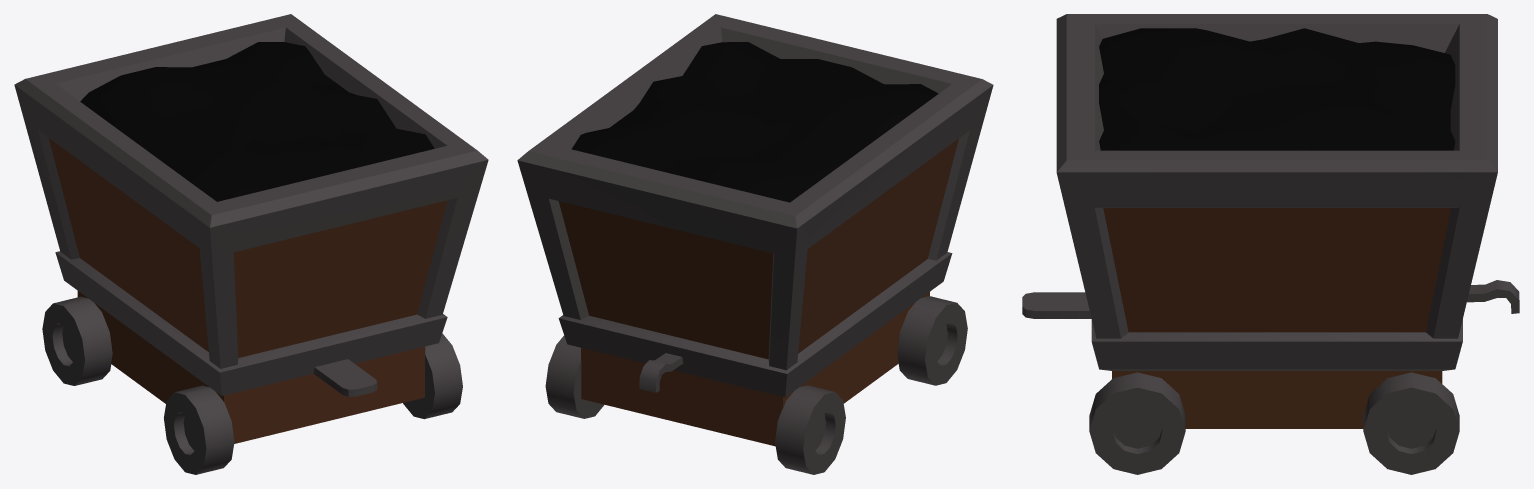
File: minecart.fbx
3 renders of one model, left to right at view 1: azimuth 30°, elevation 25°; view 2: azimuth 150°, elevation 25°; view 3: azimuth 270°, elevation 25°, orthographic. The views are drawn at different scales.
Parts seen in each view (by area): view 1: Cube; view 2: Cube; view 3: Cube.
Boxes of the visible parts, <box> form: Cube: <box>14,14,488,474</box>; Cube: <box>517,14,993,474</box>; Cube: <box>1022,14,1519,474</box>.
Size of the model in its own units: 165 by 161 by 226.
